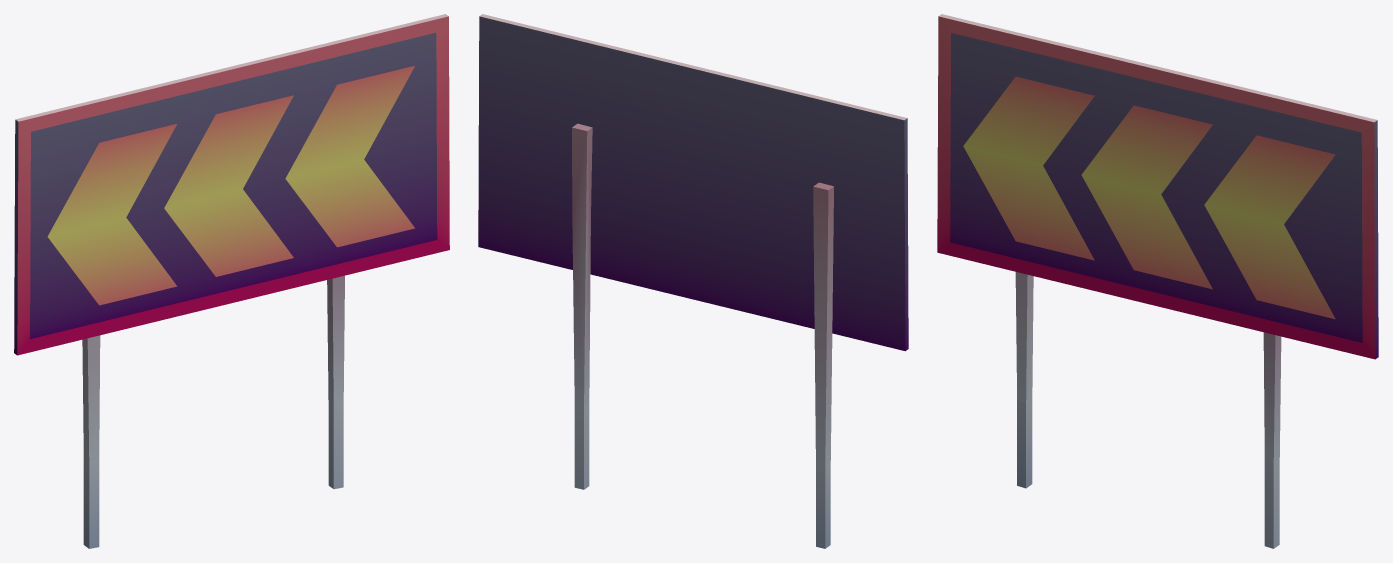
File: Prop_woodsign_turn.glb
3 renders of one model, left to right at view 1: azimuth 30°, elevation 25°; view 2: azimuth 150°, elevation 25°; view 3: azimuth 330°, elevation 25°, orthographic. The views are drawn at different scales.
Visible parts, largest first — view 1: Prop_woodsign_turn; view 2: Prop_woodsign_turn; view 3: Prop_woodsign_turn.
Part boxes in pixels (<box>): Prop_woodsign_turn: <box>14,14,449,548</box>; Prop_woodsign_turn: <box>478,14,908,548</box>; Prop_woodsign_turn: <box>937,14,1378,548</box>.
Size of the model in its own units: 0.8445 by 0.8364 by 0.0381.
